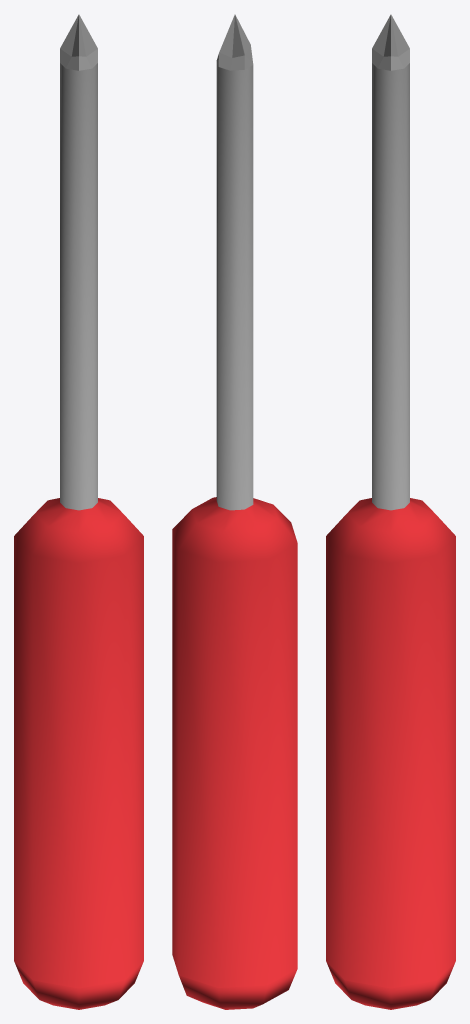
The model's file is Screwdriver.fbx.
The picture shows the model from 3 angles, left to right: view 1: azimuth 90°, elevation 25°; view 2: azimuth 210°, elevation 25°; view 3: azimuth 270°, elevation 25°; orthographic projection.
Parts seen in each view (by area): view 1: Screwdriver; view 2: Screwdriver; view 3: Screwdriver.
Boxes of the visible parts, box(x1,y1,x2,y2) form: Screwdriver: box(14, 14, 143, 1009); Screwdriver: box(172, 14, 297, 1009); Screwdriver: box(326, 14, 455, 1009).
Size of the model in its own units: 52.57 by 438 by 52.57.
